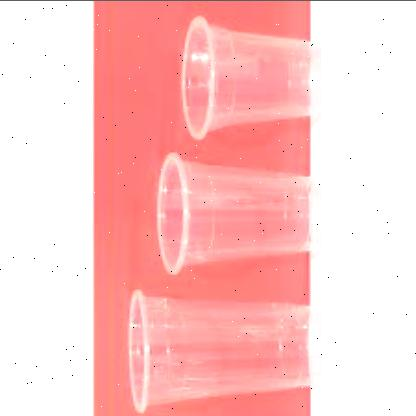Others: (120, 284, 324, 416), (146, 142, 318, 274), (166, 16, 322, 138)
